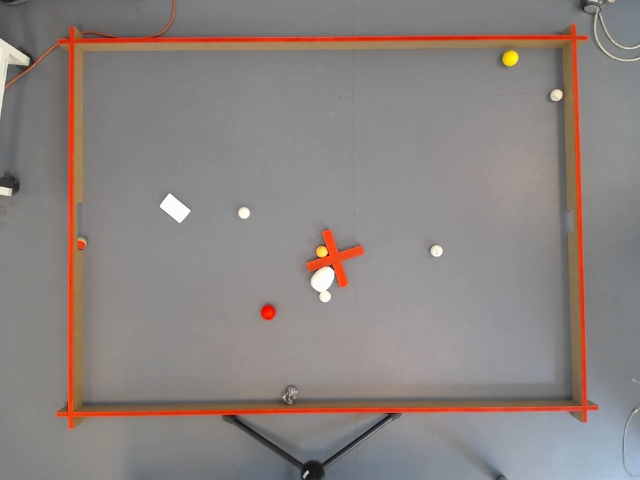big_goal: (67, 198, 86, 251)
cross: (303, 227, 364, 285)
egg: (310, 267, 332, 293)
orange: (316, 242, 328, 257)
small_goal: (561, 206, 584, 234)
wall: (50, 396, 598, 422), (556, 21, 588, 422), (50, 32, 592, 53), (66, 21, 86, 426)
white: (428, 243, 444, 258), (236, 203, 251, 219), (548, 87, 564, 102), (318, 291, 332, 303)
